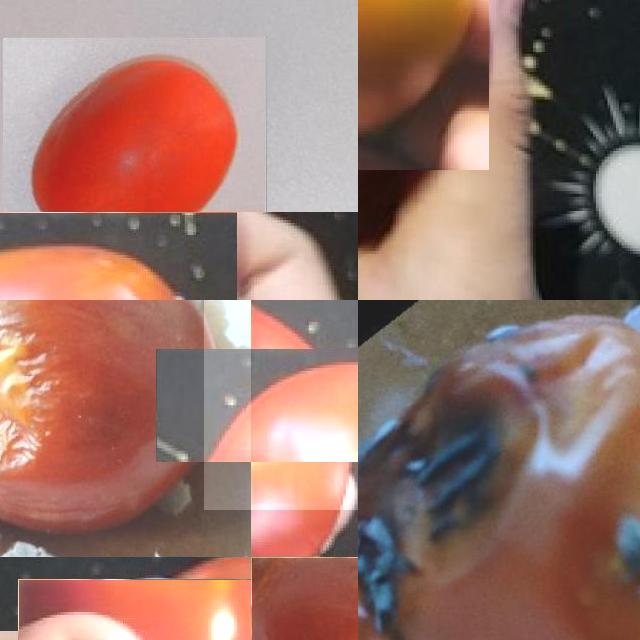1: (358, 0, 489, 170)
Fresh Tomato: (3, 37, 266, 212), (203, 300, 358, 509), (18, 579, 251, 640)
Rotten Tomato: (358, 300, 640, 640), (0, 300, 251, 557), (0, 212, 237, 300)
